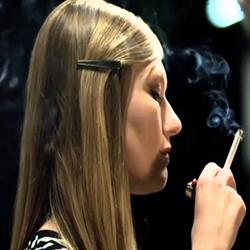smoking: (184, 126, 248, 250)
